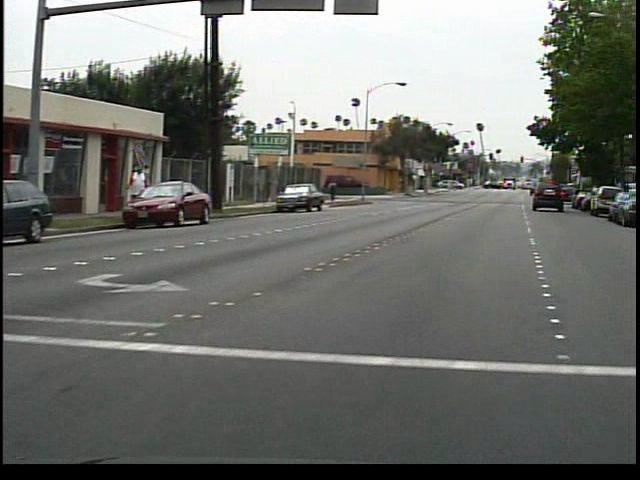person: (129, 158, 157, 221), (331, 175, 345, 204)
